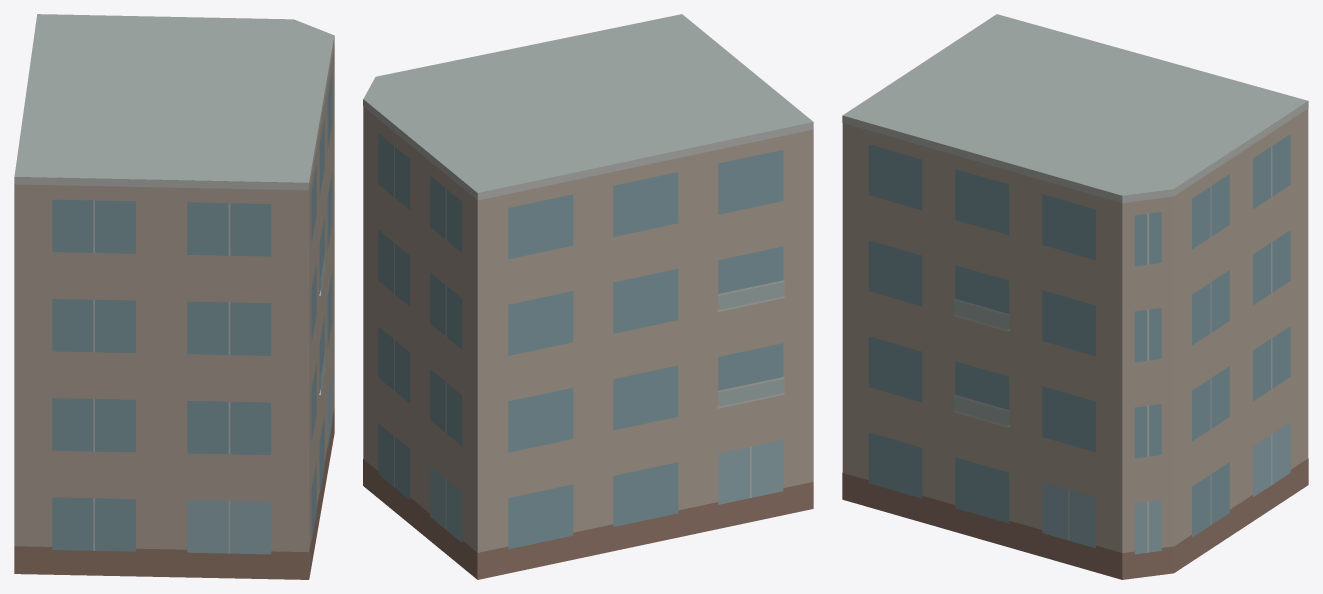
File: survey-upis-32620192.glb
3 views of the same model, side by side, from view 1: azimuth 30°, elevation 25°; view 2: azimuth 150°, elevation 25°; view 3: azimuth 270°, elevation 25° (orthographic). The views are drawn at different scales.
Parts seen in each view (by area): view 1: survey-upis-32620192.tmp; view 2: survey-upis-32620192.tmp; view 3: survey-upis-32620192.tmp.
Boxes of the visible parts, x1,y1,x2,y2 form: survey-upis-32620192.tmp: [14, 14, 334, 579]; survey-upis-32620192.tmp: [363, 14, 813, 579]; survey-upis-32620192.tmp: [842, 14, 1308, 579].
Bounding box in the file's own units: 12.89 × 12.7 × 13.97.
